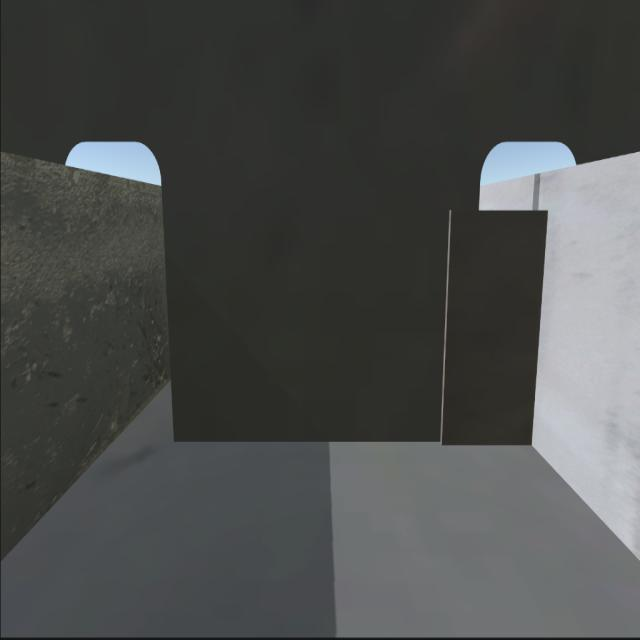fillet_yong_jeop_jang: (170, 430, 531, 450)
longi_yong_jeop_jang: (533, 206, 549, 446)
plate_CP01: (447, 211, 538, 442)
